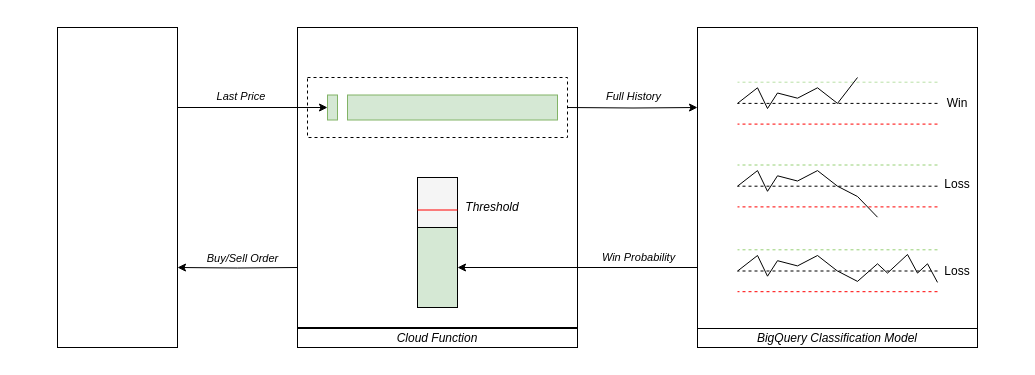
The diagram is 1035 pixels wide and 375 high, and some of its shapes have lost their labels. The centre of each missing label's shape, as x and y in pixels:
"Binance" belongs at (x=117, y=187).
"Coin history" belongs at (x=452, y=107).
